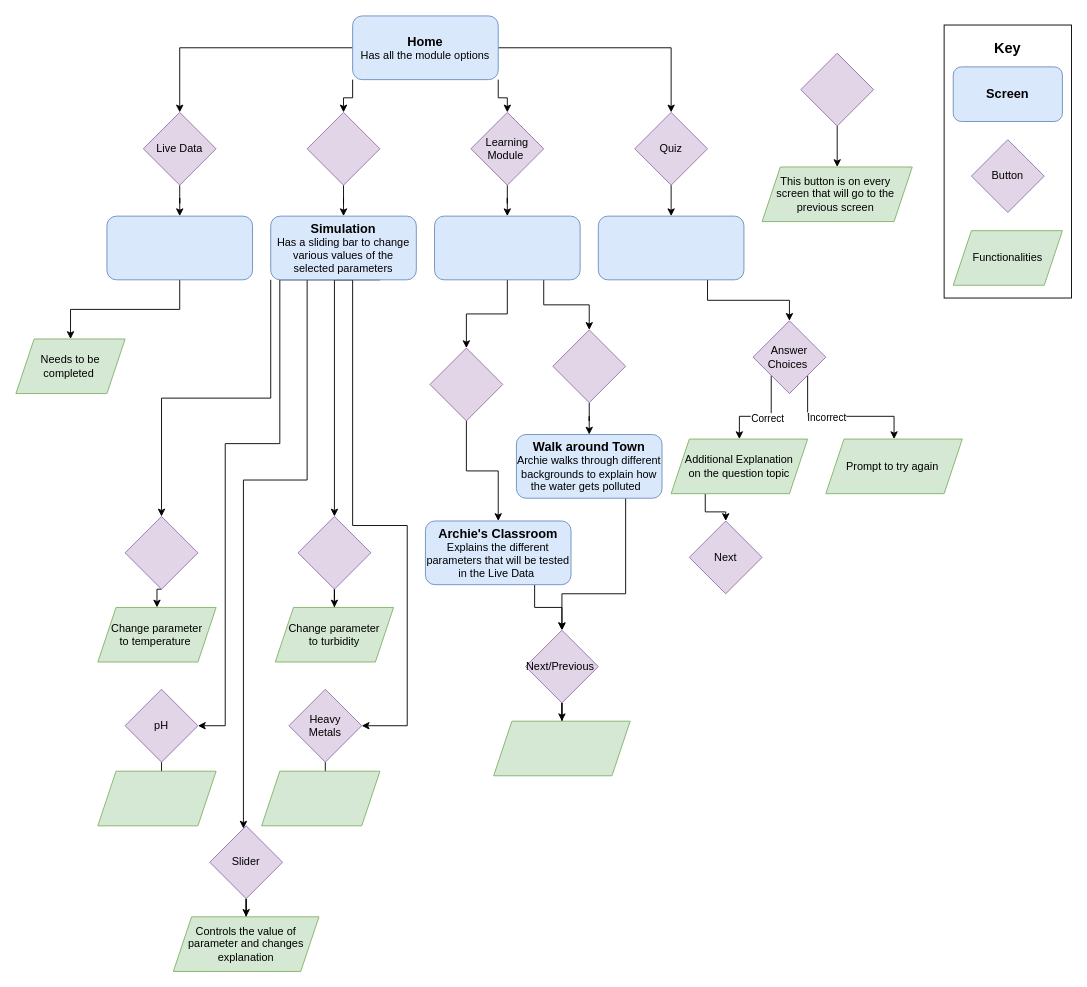
The diagram is 1087 pixels wide and 987 high, and some of its shapes have lost their labels. Each missing label, with the box of its shape:
BACK: (800, 52, 874, 126)
Change parameter to Heavy Metals: (261, 770, 380, 826)
Change parameter to pH: (97, 770, 216, 826)
How to test water?: (429, 347, 503, 421)
Learning Has all the learning module options: (434, 215, 580, 280)
Live Data Walks through collecting data with sensors and testing strips: (106, 215, 253, 280)
Quiz Displays the Question and answer selections: (597, 215, 744, 280)
Simulation: (306, 111, 380, 185)
Temperature: (124, 516, 198, 589)
Turbidity: (297, 516, 371, 589)
What pollutes the water?: (552, 329, 626, 403)
Will walk through the different pages of material to learn: (493, 720, 630, 776)
